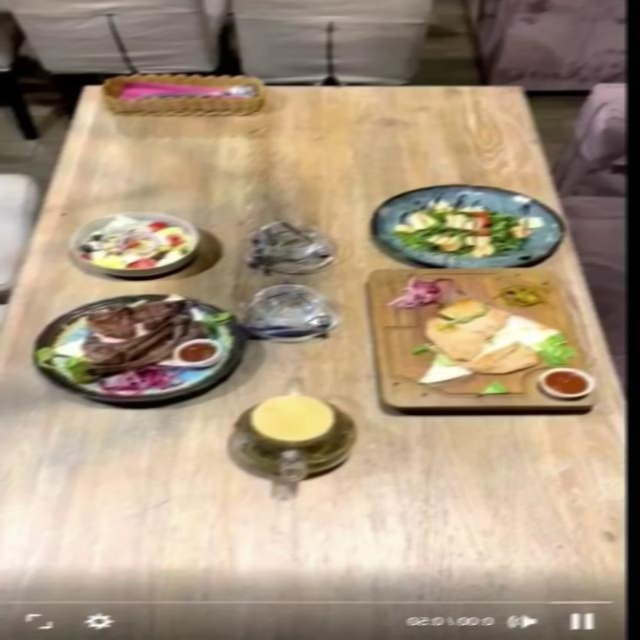meat: (371, 271, 597, 409), (32, 293, 250, 403)
salad: (374, 185, 566, 267), (69, 212, 202, 276)
tea: (233, 396, 358, 480)
